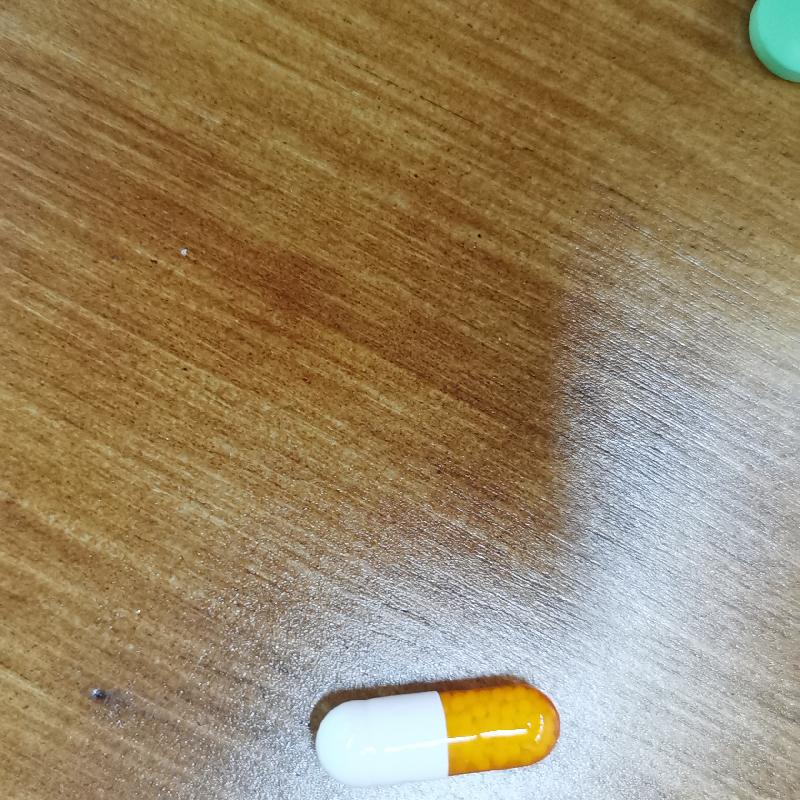pills: (308, 673, 563, 790)
